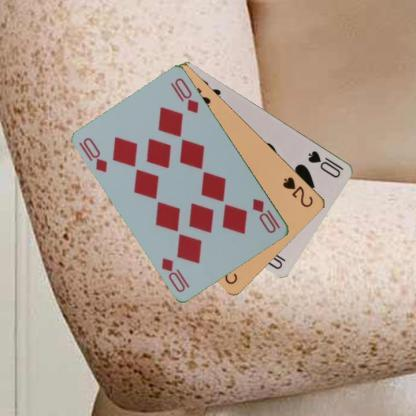10d: (76, 135, 109, 174), (249, 195, 278, 235)
10s: (306, 148, 346, 179)
2s: (280, 173, 315, 208)
